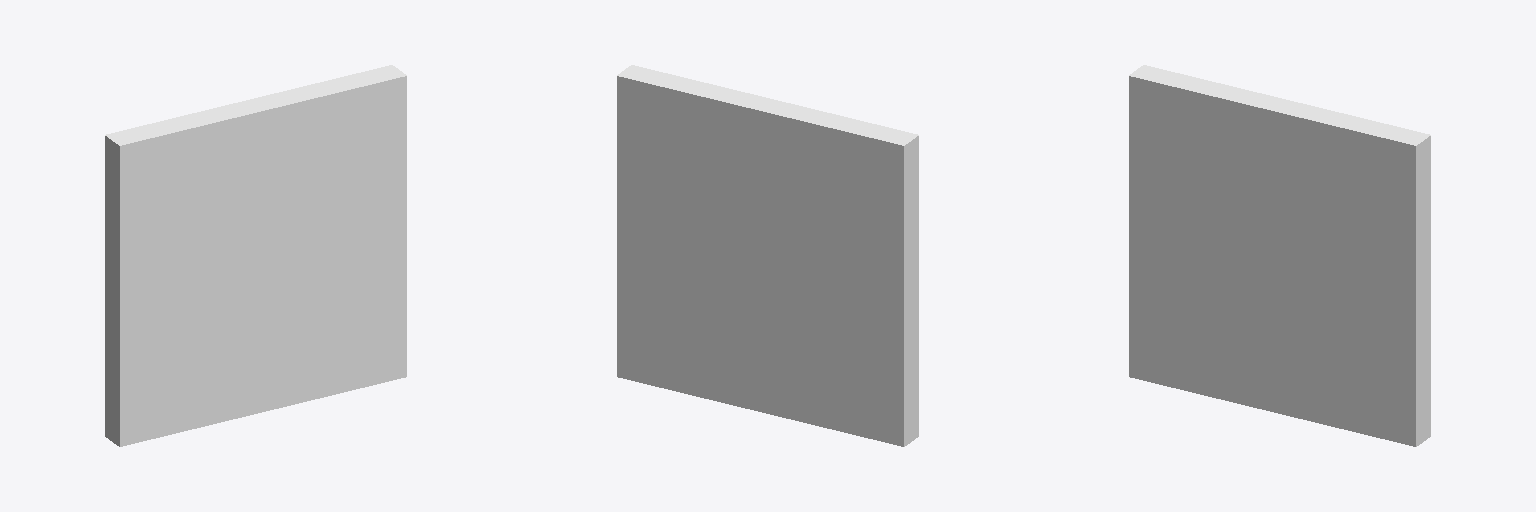
The model's file is House-2-WindowR.obj.
The picture shows the model from 3 angles: view 1: azimuth 30°, elevation 25°; view 2: azimuth 150°, elevation 25°; view 3: azimuth 330°, elevation 25°; orthographic projection.
Parts seen in each view (by area): view 1: WindowR; view 2: WindowR; view 3: WindowR.
Part boxes in pixels (bbox=[...]): WindowR: bbox=[105, 65, 406, 446]; WindowR: bbox=[617, 65, 918, 446]; WindowR: bbox=[1129, 65, 1430, 446].
Size of the model in its own units: 1.1 by 1.1 by 0.1.